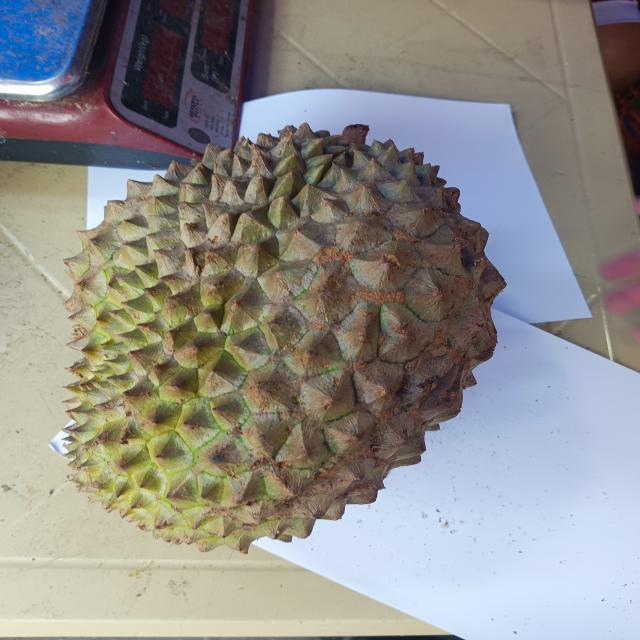mature: (65, 124, 505, 551)
